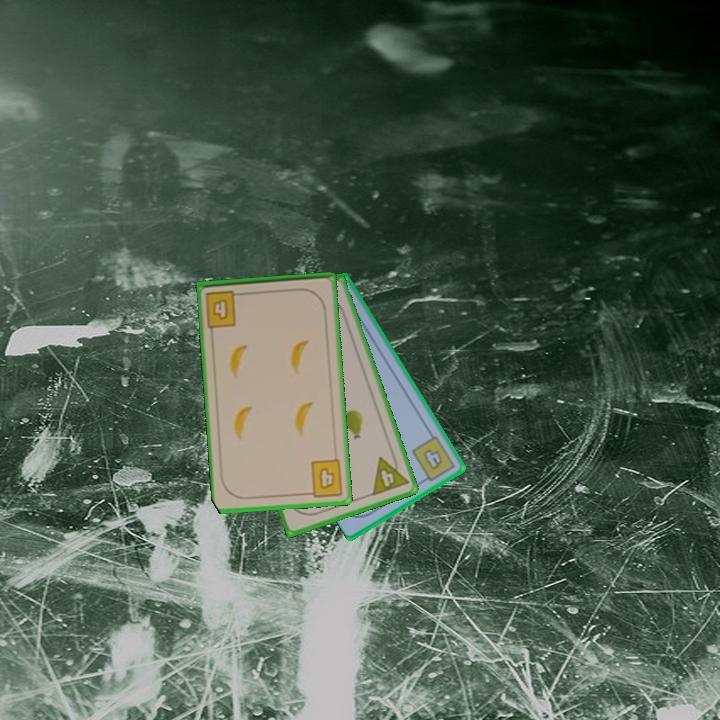4b: (408, 432, 458, 486), (302, 456, 346, 500), (202, 287, 246, 330)
4p: (368, 449, 412, 499)
